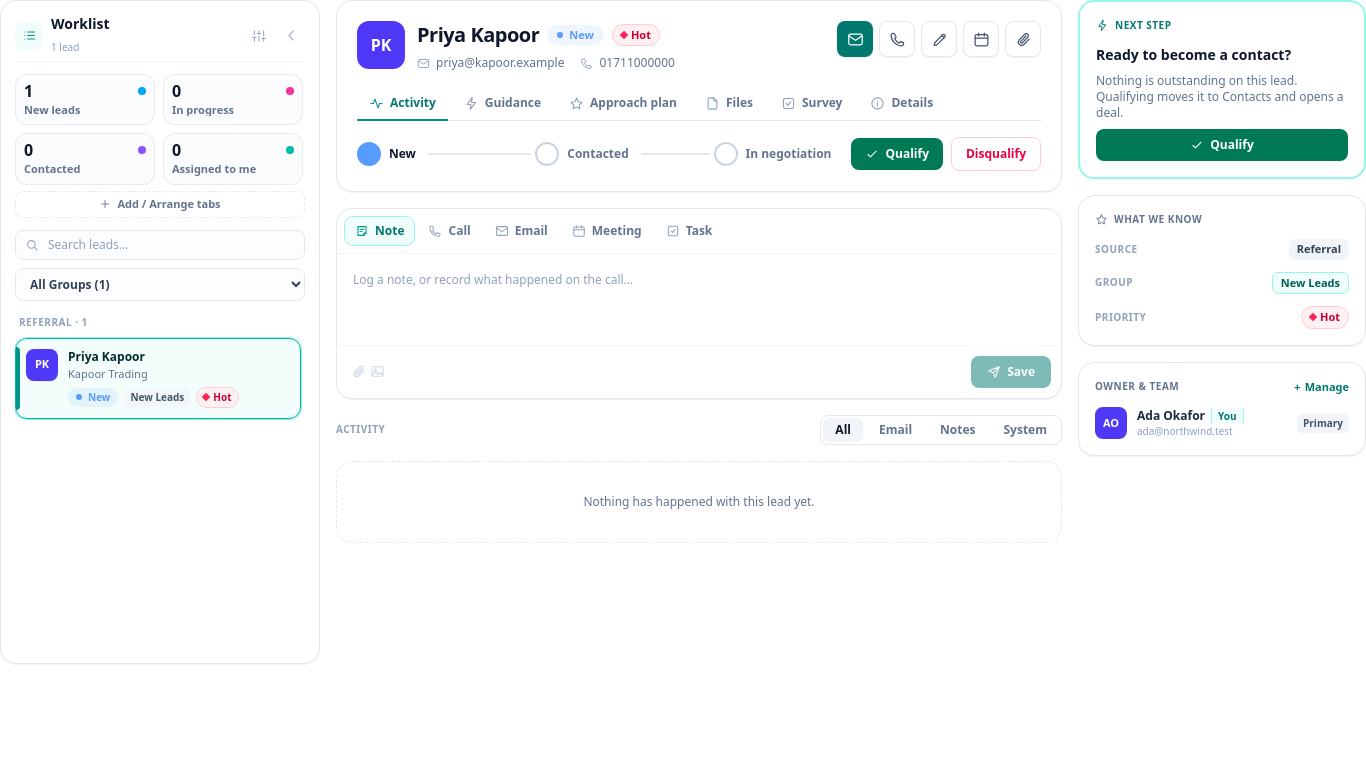
it: LeadWorkspace › gathers every lead detail in one place on the Details tab
This screenshot has width=1366, height=768.
What coordinates should you click on to do the following:
click the button "Details"
I would click on:
 (902, 104)
Its box is [858,87,945,121].
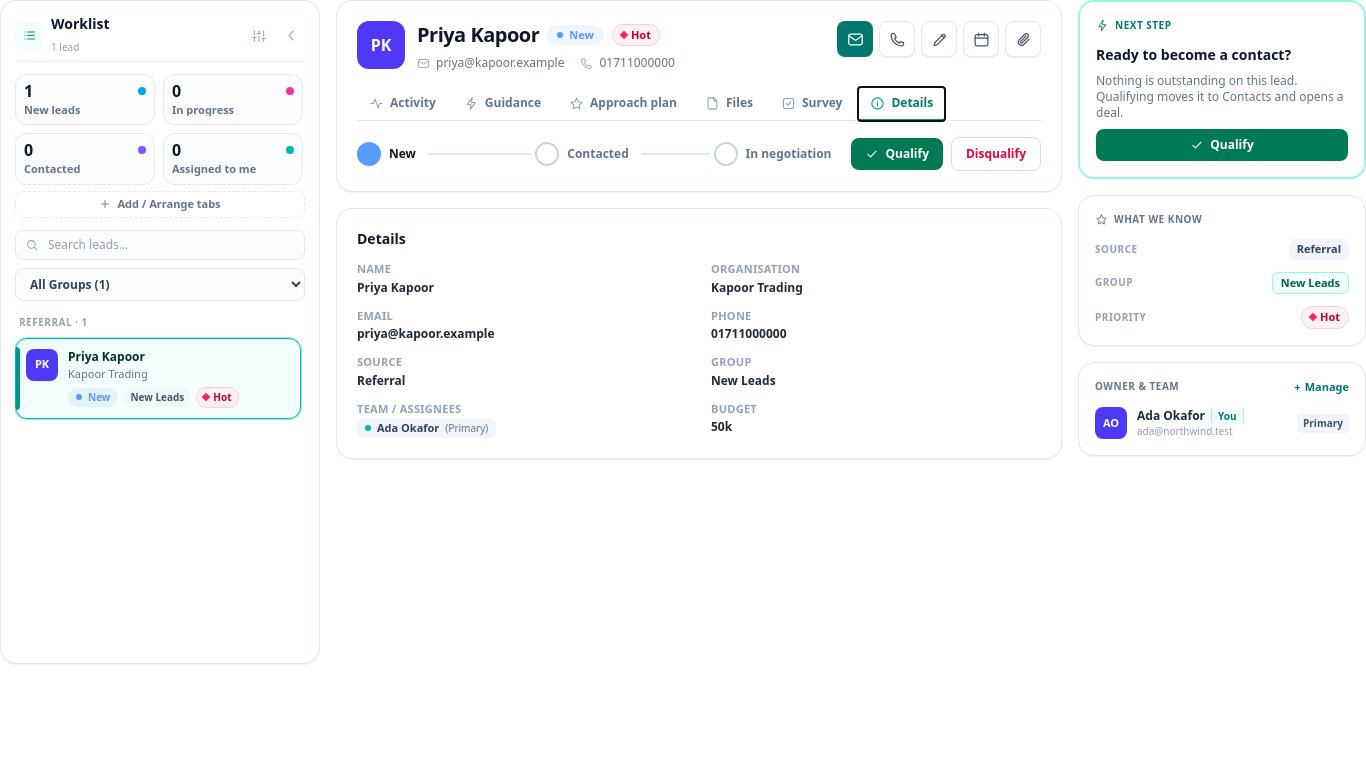
Check: the text "priya@kapoor.example" is shown, box [357,325,494,342]
Check: the text "01711000000" is shown, box [711,325,786,342]
Check: the text "Referral" below "Email" is shown, box [357,372,405,388]
